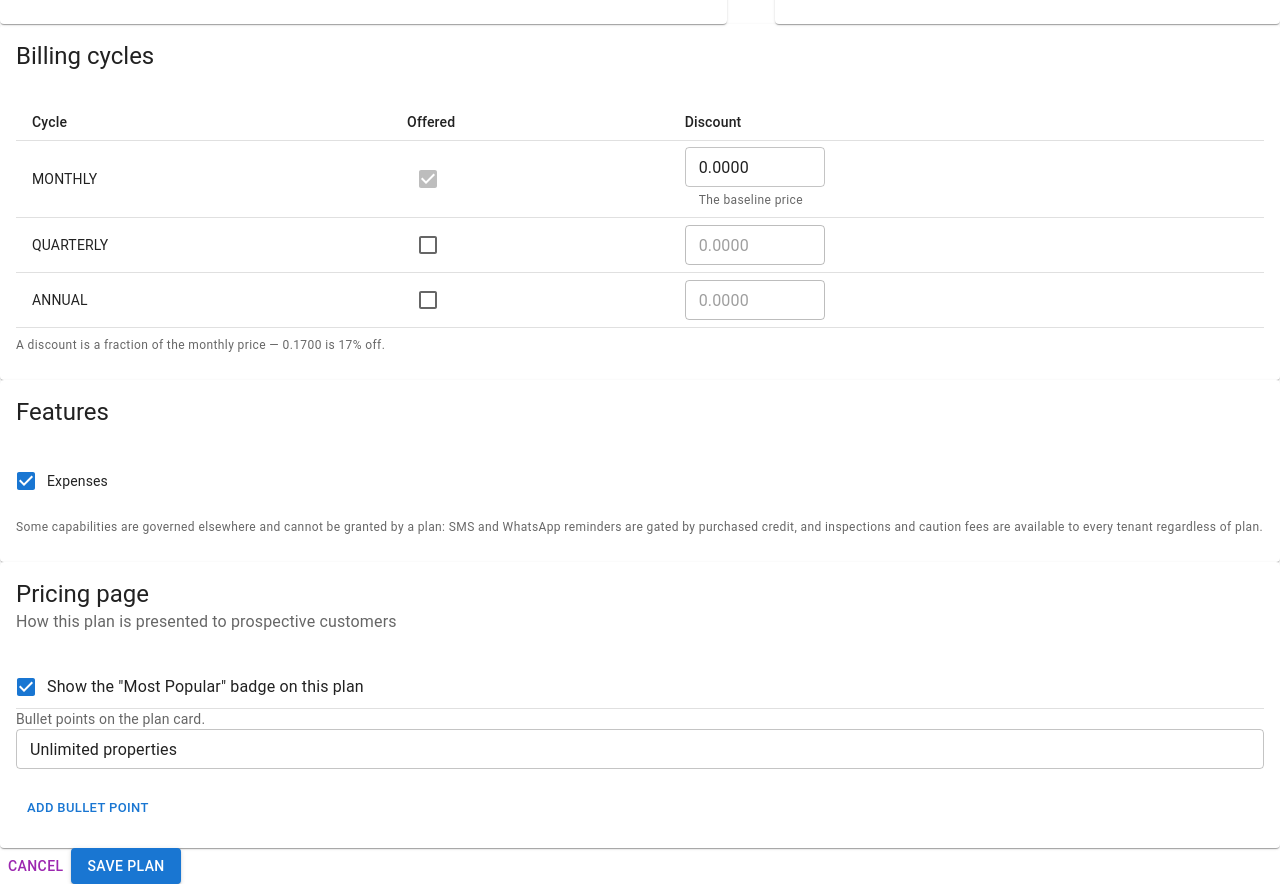
PlanEditorForm › offers reload, not another Confirm, when the replay is itself refused
This screenshot has width=1280, height=884.
(page scrolled)
Click the button "Save plan": [126, 866] box x1=72 y1=848 x2=181 y2=883
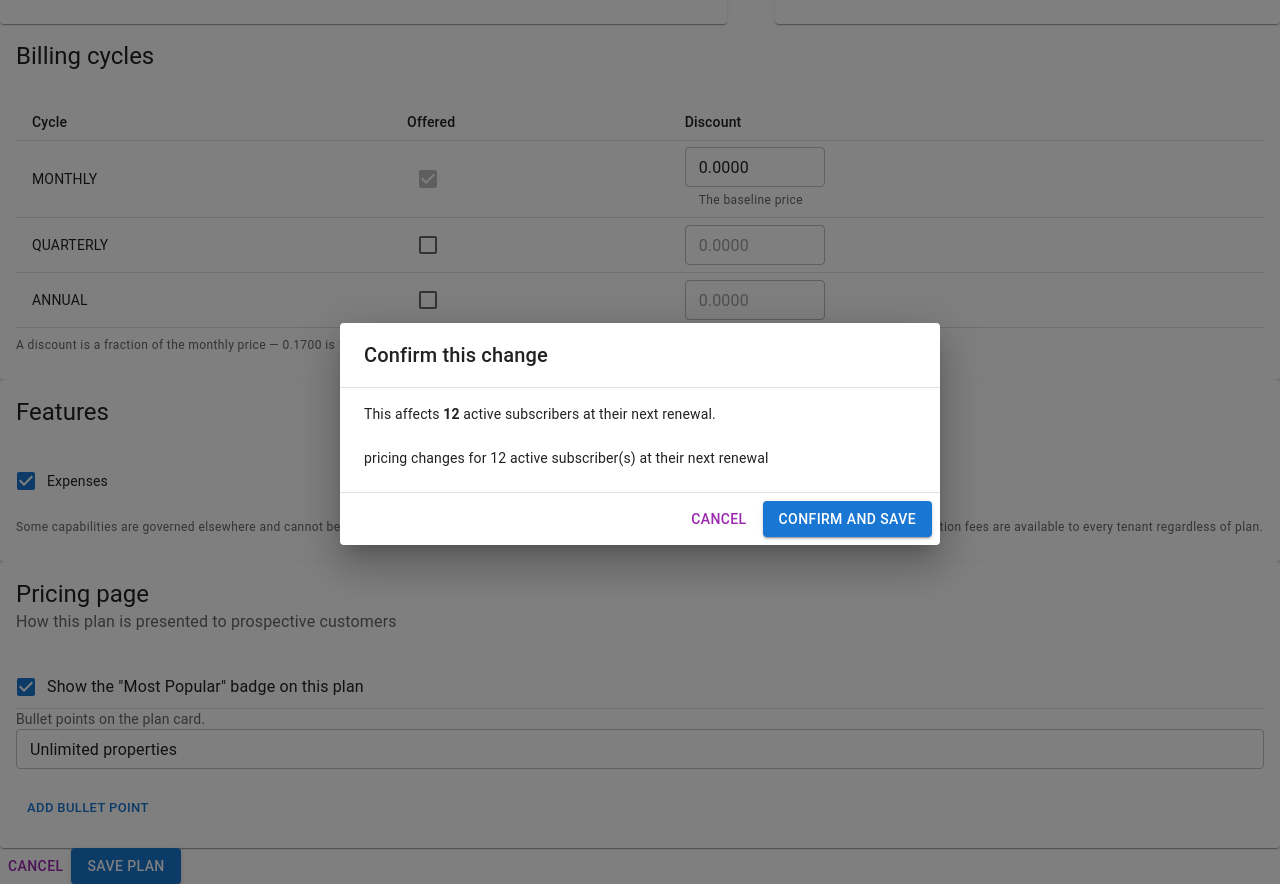
Click the button "Confirm and save": [847, 519] box x1=763 y1=501 x2=932 y2=537
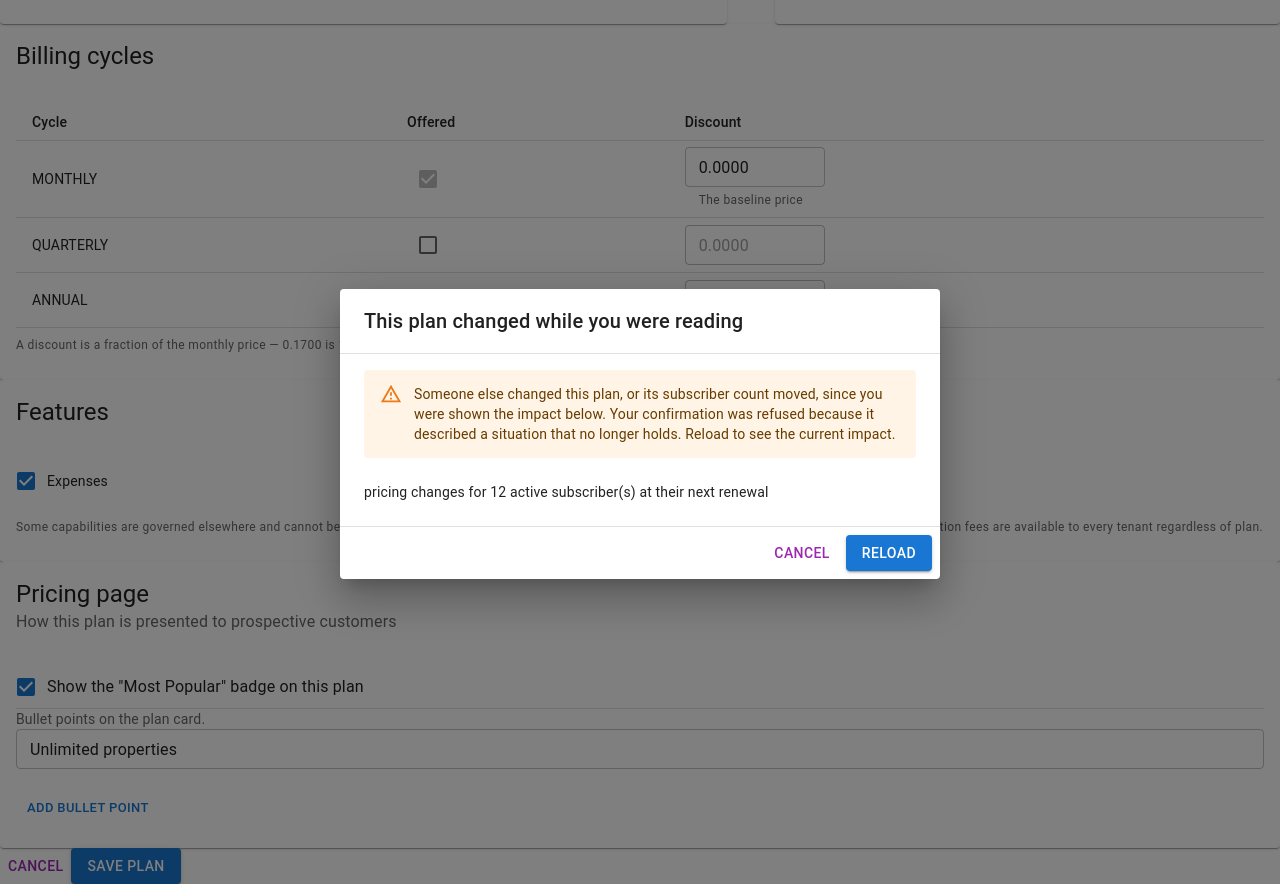
Now the button "Reload" is shown, box x1=846 y1=535 x2=932 y2=571
Now the heading "Confirm" is gone
